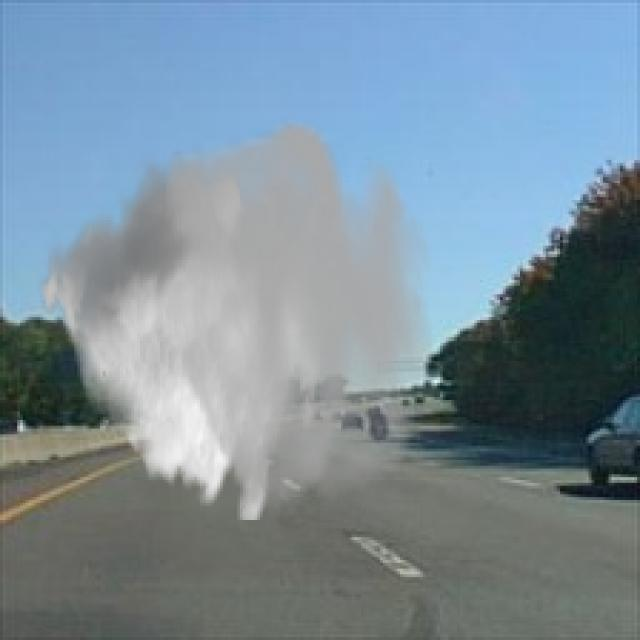smoke: (37, 114, 434, 520)
